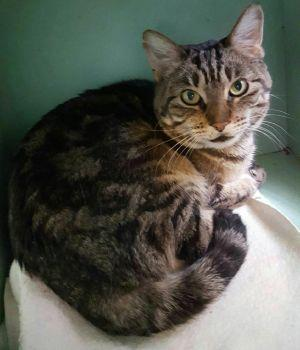bengal: (130, 1, 284, 157)
